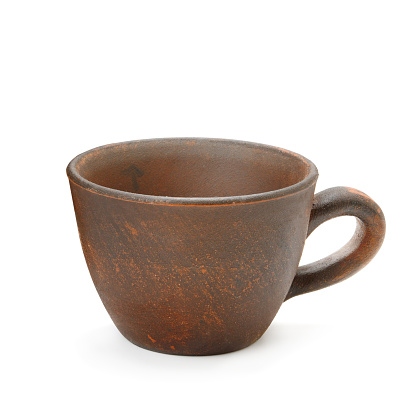cup: (65, 132, 388, 358)
